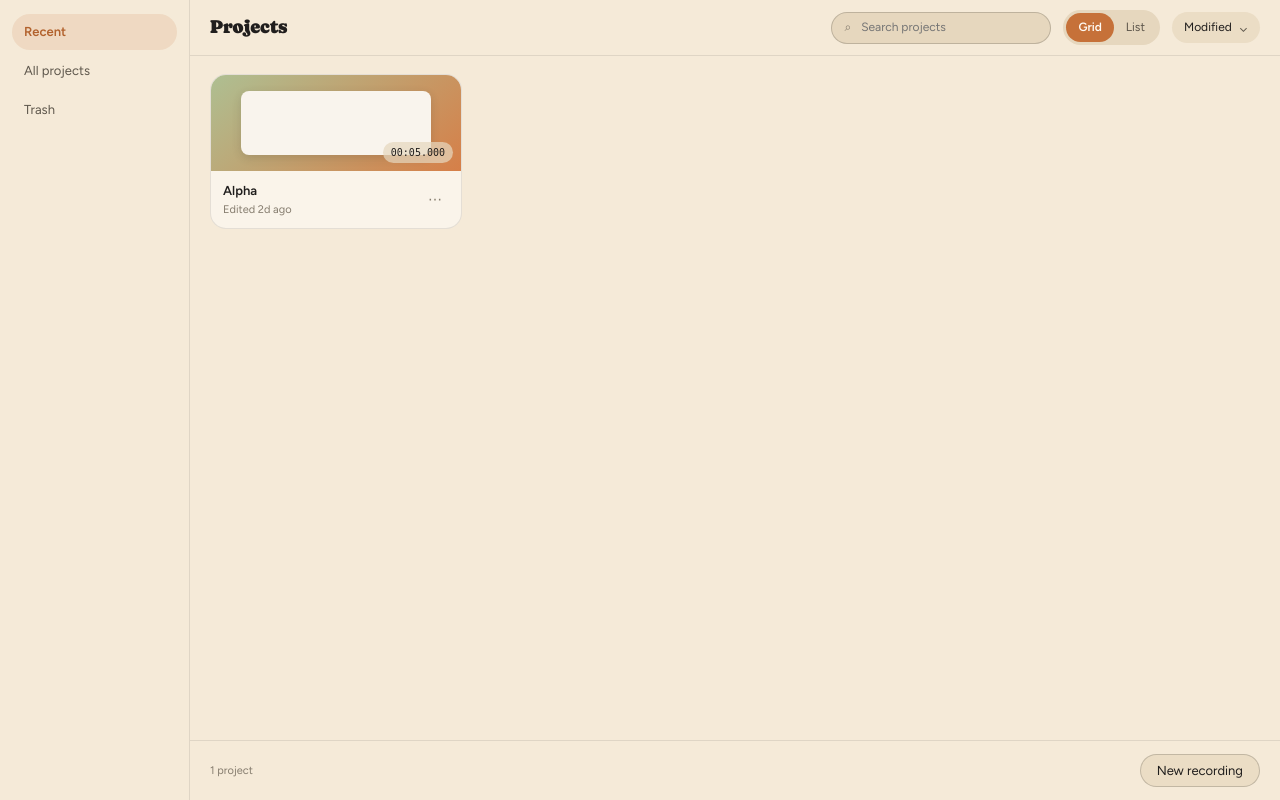
ProjectsContainer: lists › search with no results
Expected: the button with aria-label "Open Alpha" is shown, [210,74,462,229]
Type "zzz" into the search field named "Search projects" at (949, 28), box [859,17,1038,38]
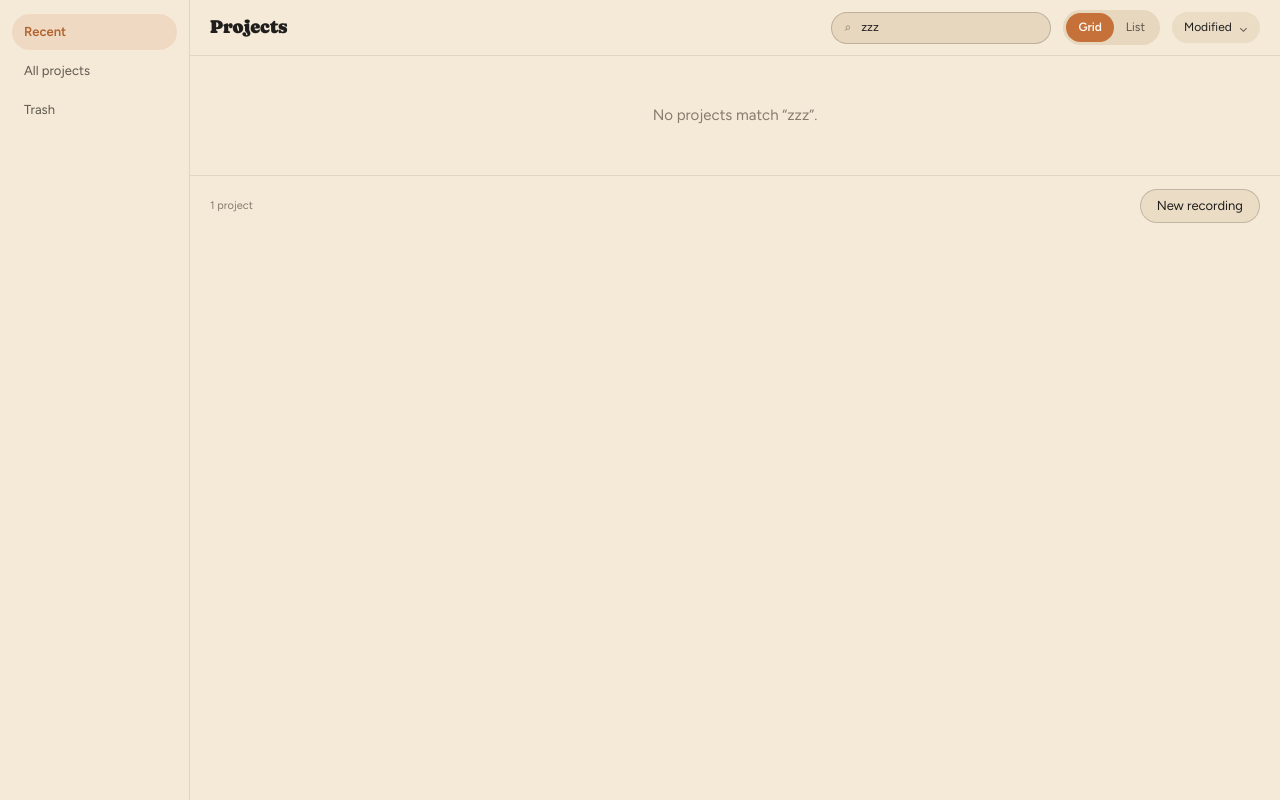
Now the text "No projects match “zzz”." is shown, box [653,106,817,124]
